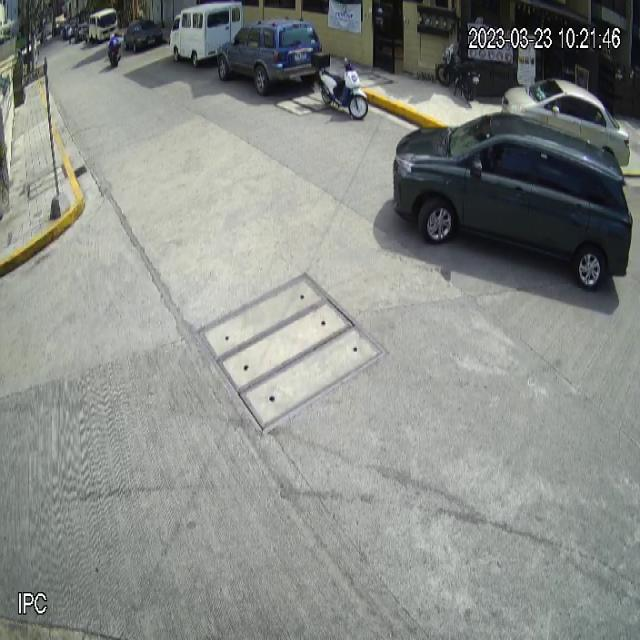Car: (392, 110, 633, 290), (217, 16, 322, 95)
Motorcycle: (311, 51, 368, 120)
Van: (170, 0, 244, 67)
